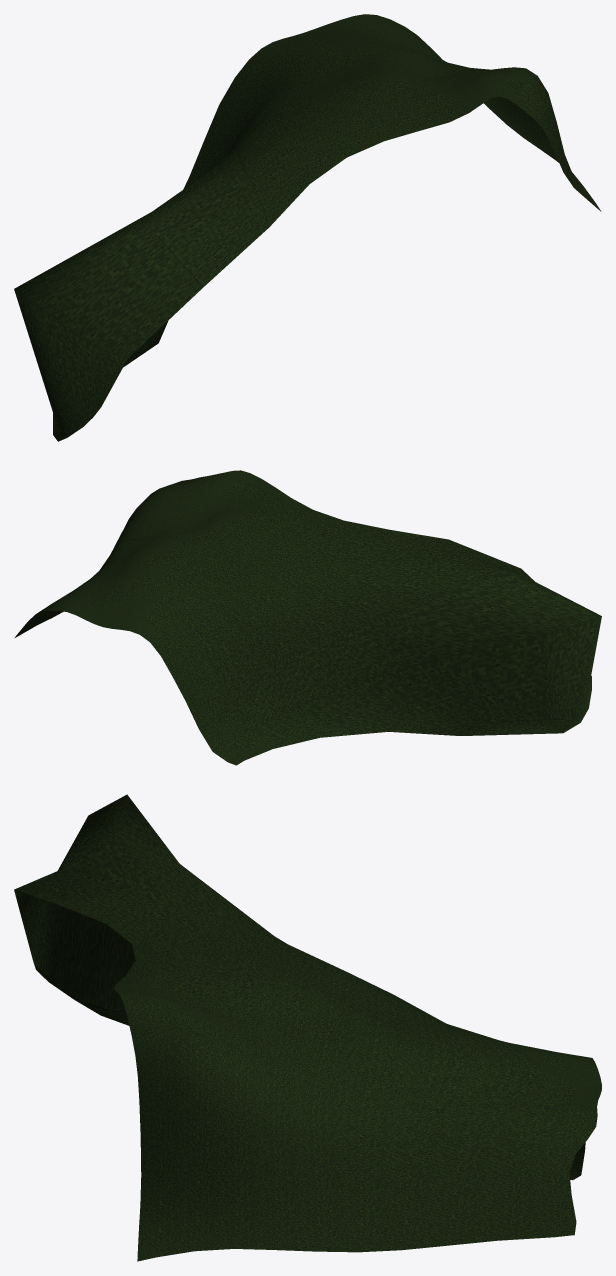
Rendered from coastLeft.glb.
3 views of the same model, one above another, from view 1: azimuth 30°, elevation 25°; view 2: azimuth 150°, elevation 25°; view 3: azimuth 270°, elevation 25° (orthographic). The views are drawn at different scales.
Parts seen in each view (by area): view 1: Left; view 2: Left; view 3: Left.
Boxes of the visible parts, x1,y1,x2,y2 form: Left: (14,14,601,441); Left: (15,470,601,765); Left: (14,794,601,1261).
Size of the model in its own units: 146 by 55.3 by 95.32.
Materials: 1 (1 with a texture image).
